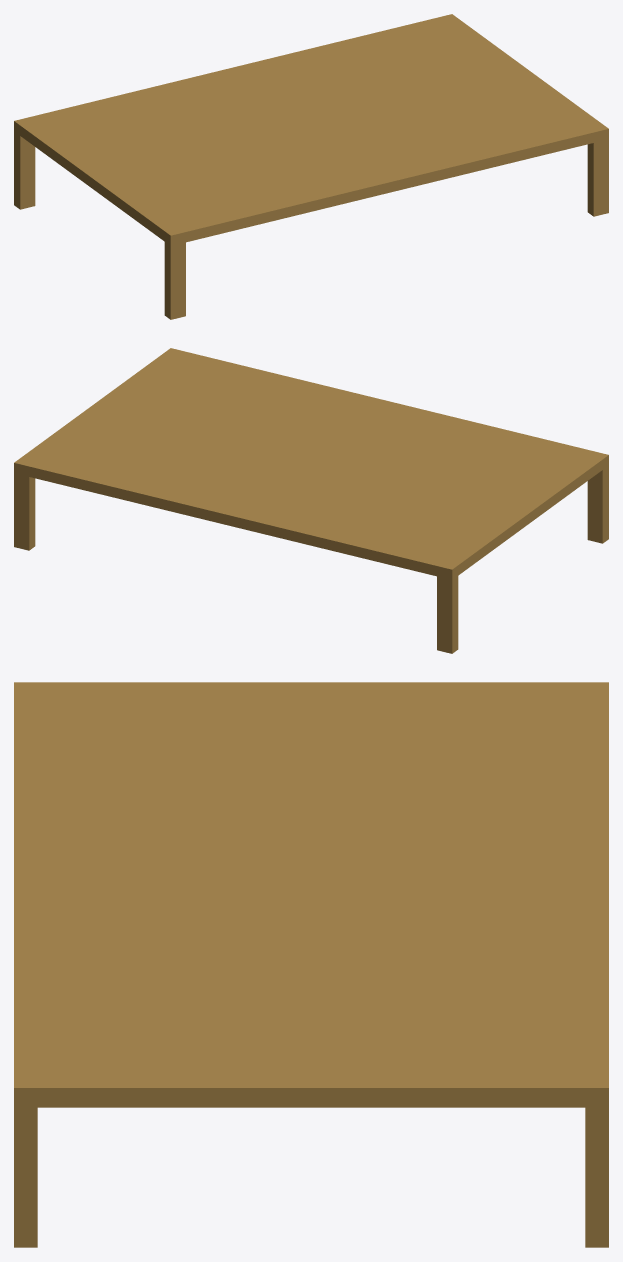
File: Coffee table.fbx
The picture shows the model from 3 angles, top to bottom: view 1: azimuth 30°, elevation 25°; view 2: azimuth 150°, elevation 25°; view 3: azimuth 270°, elevation 25°; orthographic projection. The views are drawn at different scales.
Visible parts, largest first — view 1: Cube; view 2: Cube; view 3: Cube.
Boxes of the visible parts, x1,y1,x2,y2 form: Cube: (14, 14, 608, 319); Cube: (14, 348, 608, 653); Cube: (14, 682, 608, 1247).
Size of the model in its own units: 695 by 128 by 431.
